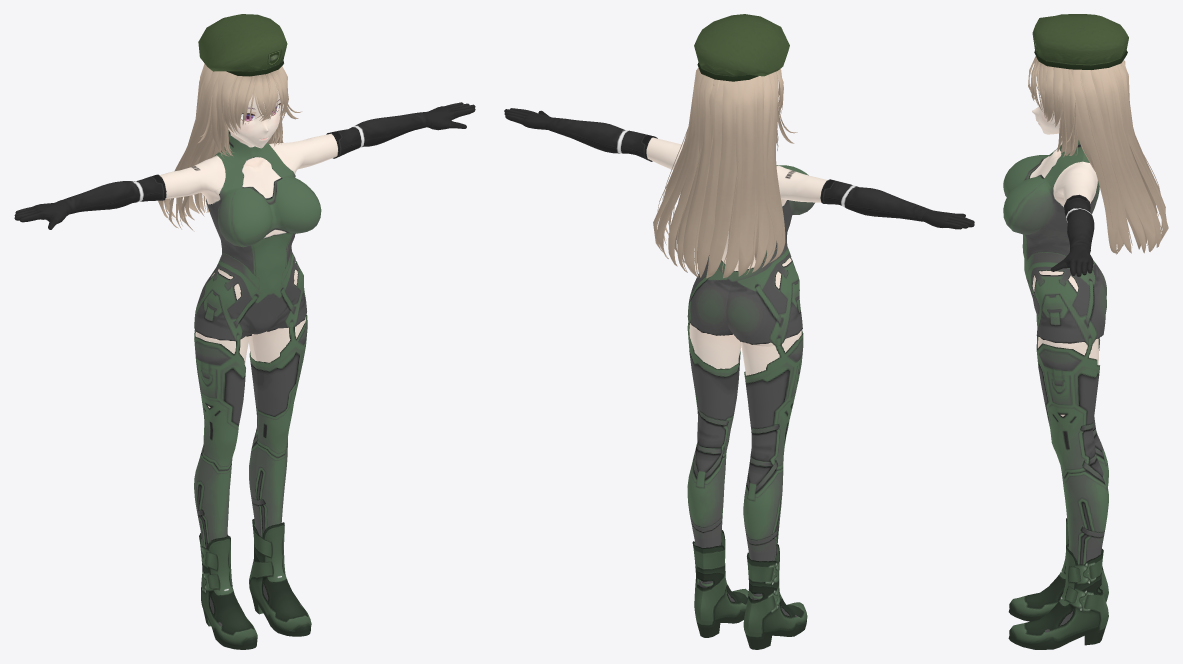
Rendered from anime_girl.glb.
3 views of the same model, side by side, from view 1: azimuth 30°, elevation 25°; view 2: azimuth 150°, elevation 25°; view 3: azimuth 270°, elevation 25° (orthographic). The views are drawn at different scales.
Parts seen in each view (by area): view 1: Object_3, Object_2, Object_4; view 2: Object_3, Object_2; view 3: Object_3, Object_2, Object_4.
Part boxes in pixels (<box>): Object_3: <box>14,63,475,649</box>; Object_2: <box>198,14,287,76</box>; Object_4: <box>228,90,280,148</box>; Object_3: <box>504,68,974,649</box>; Object_2: <box>694,14,789,81</box>; Object_3: <box>1003,56,1168,649</box>; Object_2: <box>1032,14,1128,69</box>; Object_4: <box>1032,83,1060,134</box>.
Size of the model in its own units: 1.36 by 1.68 by 0.4135.
Materials: 3 (3 with a texture image).
